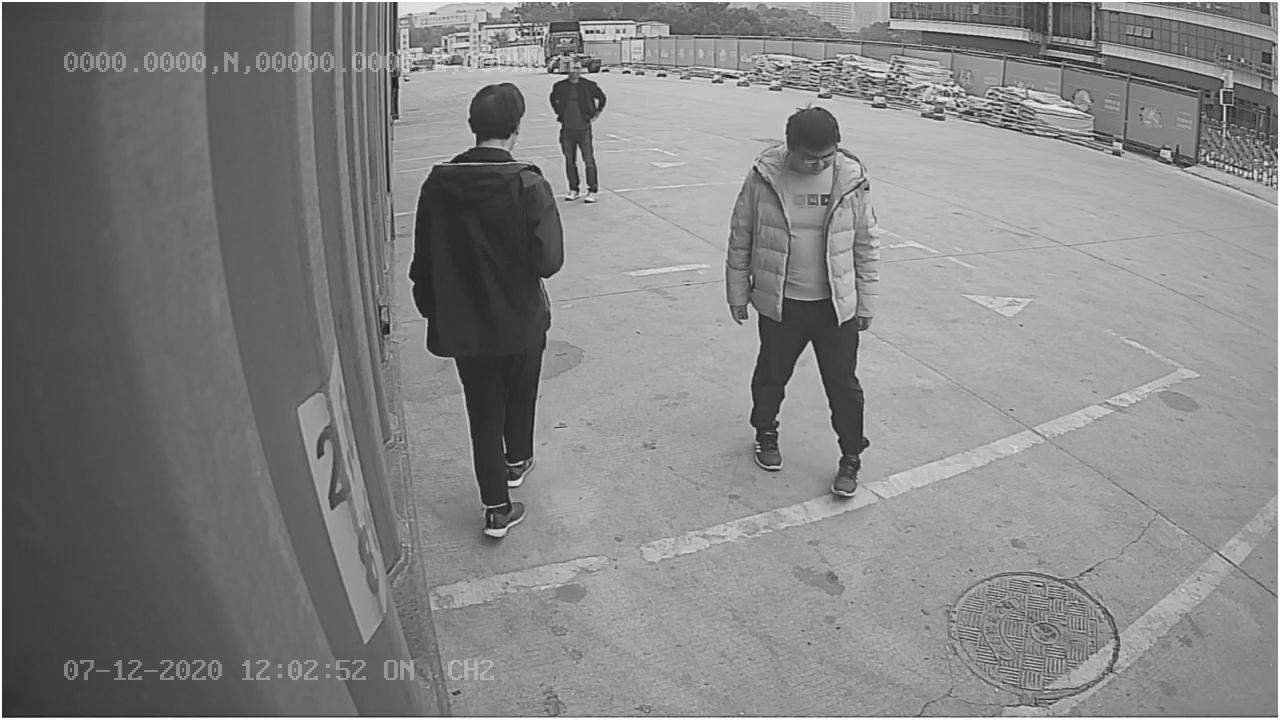person: (722, 99, 883, 500)
